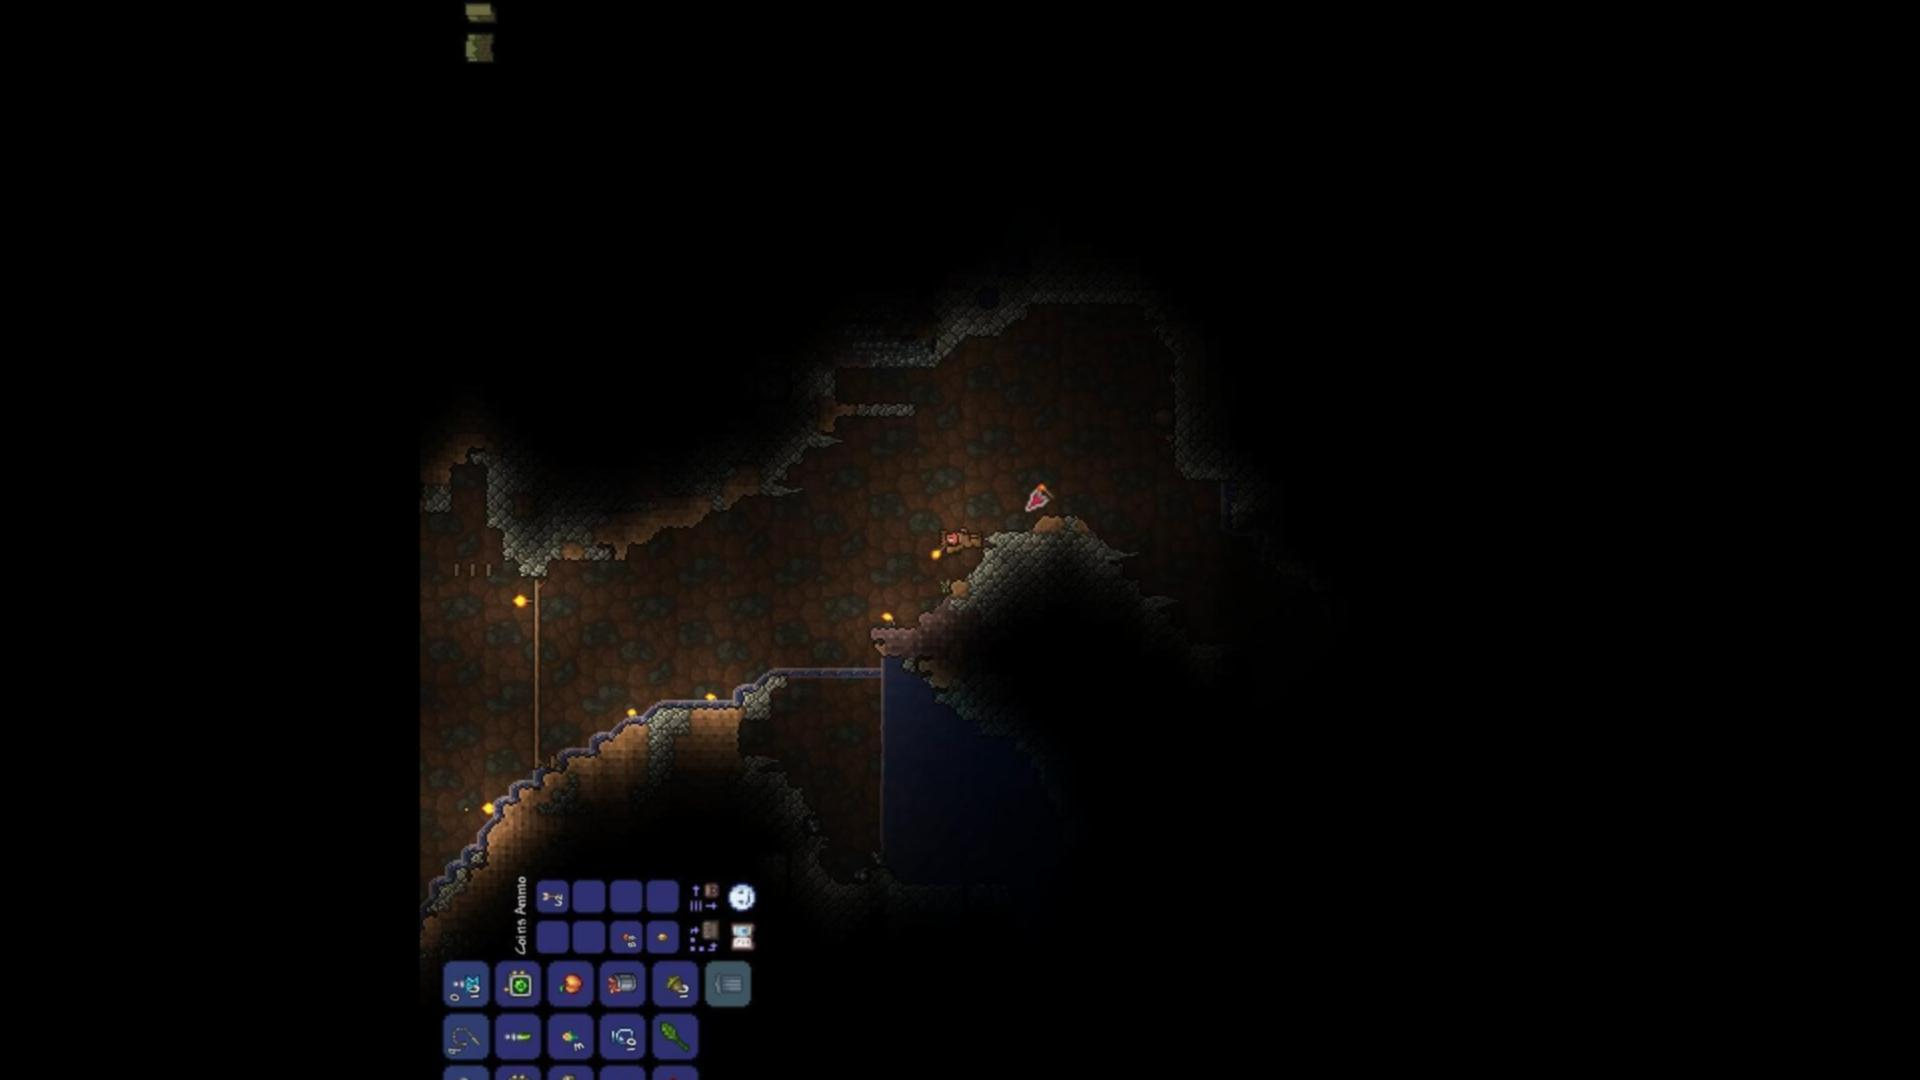arrow: (539, 887, 563, 899)
recallP: (450, 972, 481, 996)
